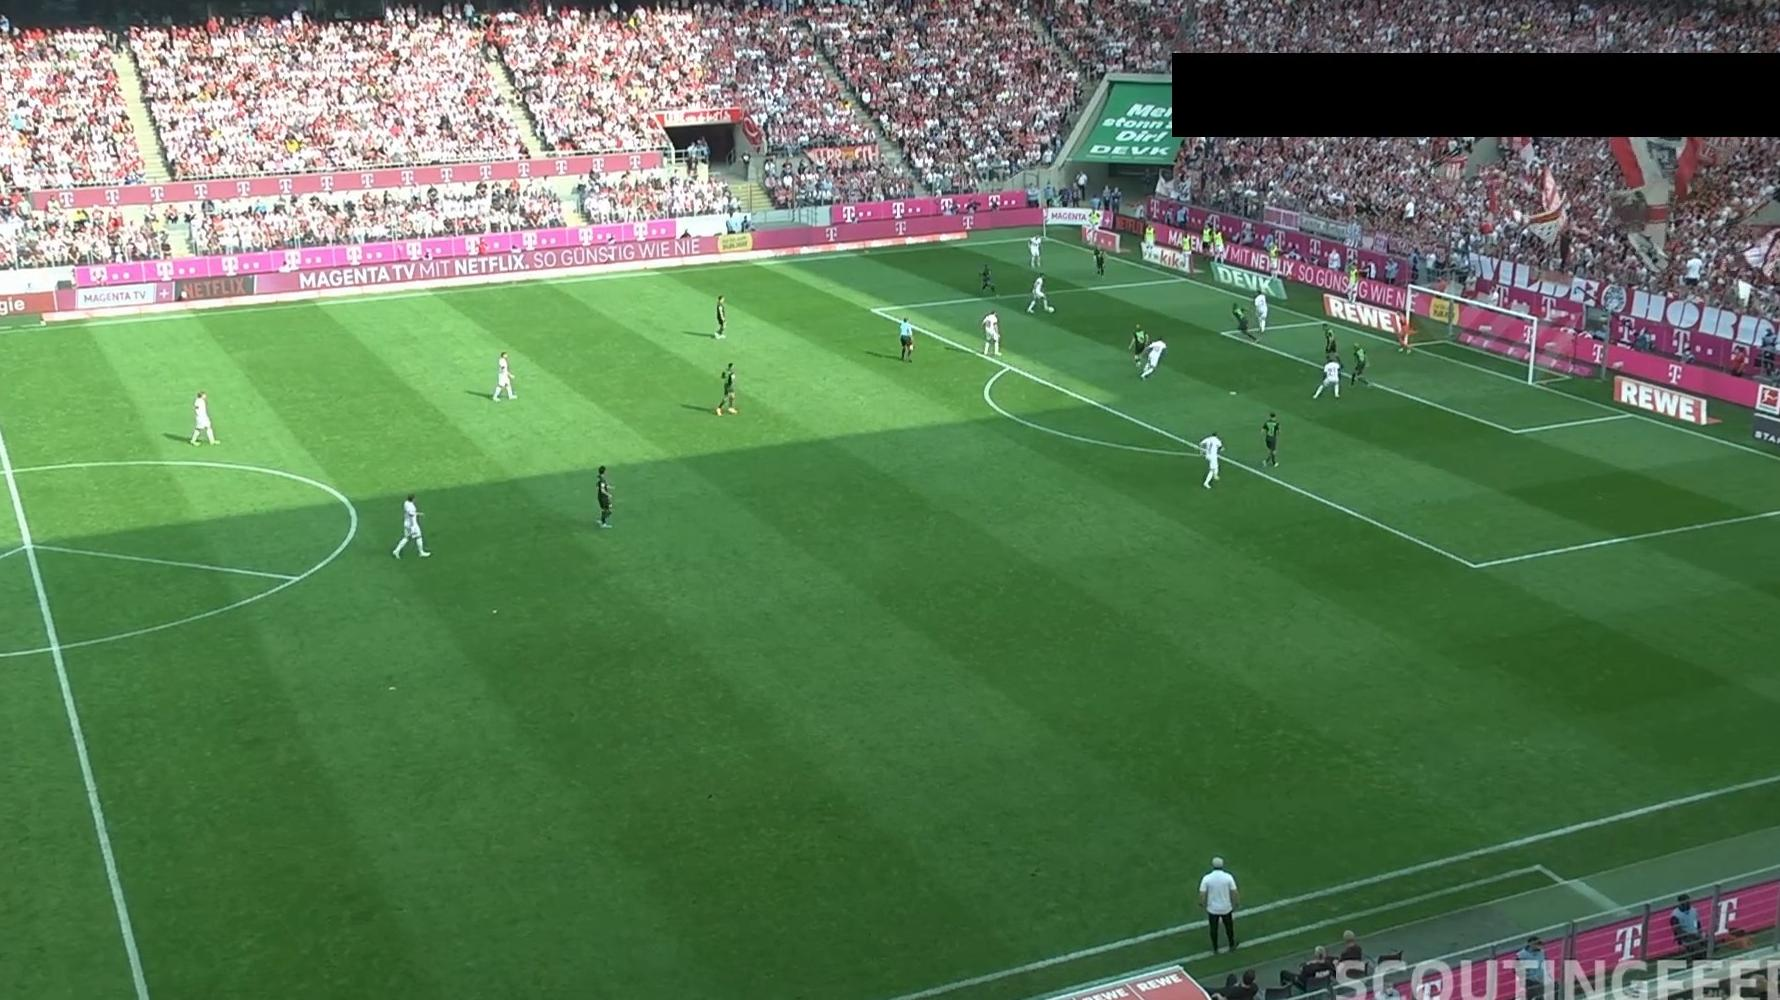ball: (1046, 304, 1056, 314)
